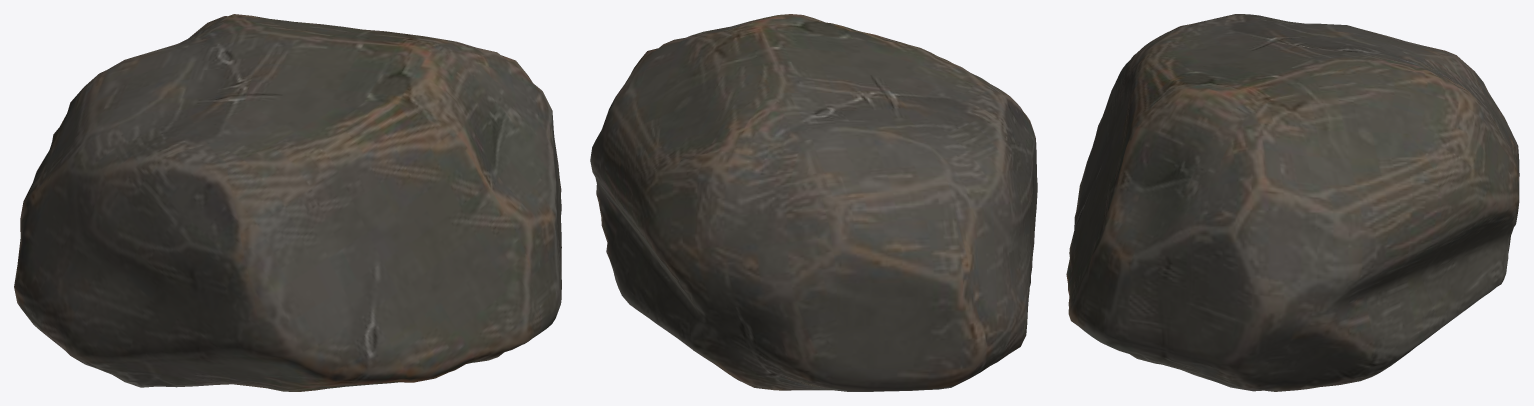
File: roca2.glb
3 views of the same model, side by side, from view 1: azimuth 30°, elevation 25°; view 2: azimuth 150°, elevation 25°; view 3: azimuth 270°, elevation 25° (orthographic). The views are drawn at different scales.
Visible parts, largest first — view 1: Object_2; view 2: Object_2; view 3: Object_2.
Boxes of the visible parts, <box> form: Object_2: <box>14,14,561,391</box>; Object_2: <box>590,14,1037,391</box>; Object_2: <box>1066,14,1519,391</box>.
Bounding box in the file's own units: 90.44 × 53.49 × 78.76.
Materials: 1 (1 with a texture image).
